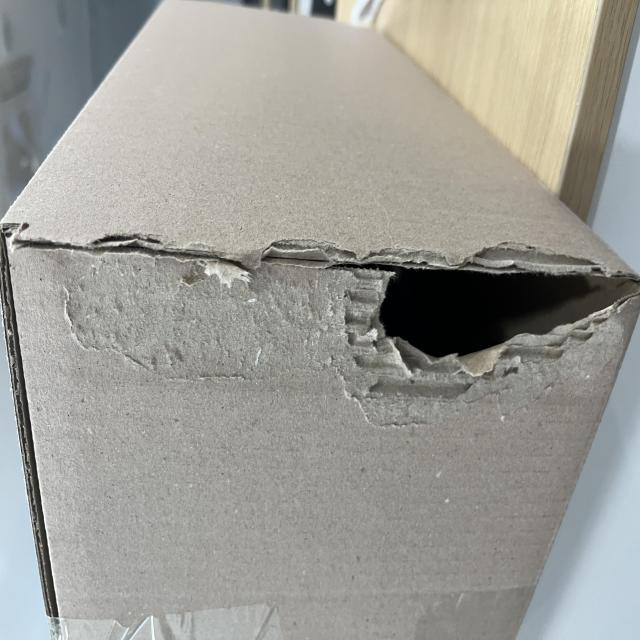damaged: (183, 491, 288, 640)
